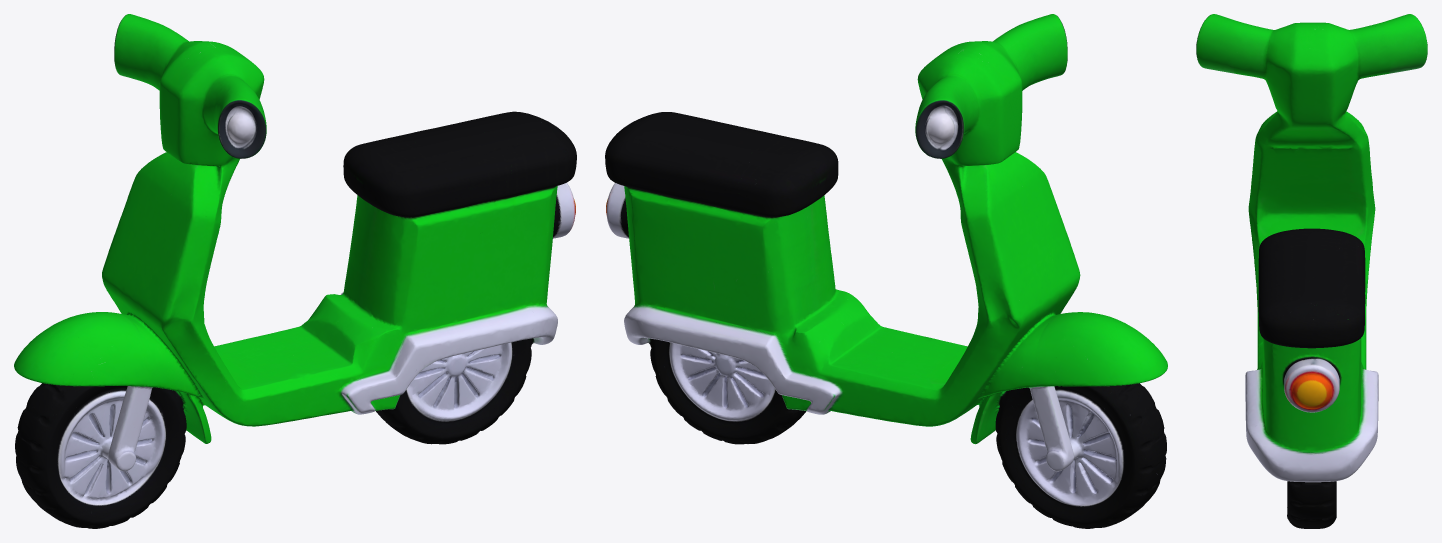
File: green-delivery-scooter.glb
The picture shows the model from 3 angles, left to right: view 1: azimuth 30°, elevation 25°; view 2: azimuth 150°, elevation 25°; view 3: azimuth 270°, elevation 25°; orthographic projection. The views are drawn at different scales.
Size of the model in its own units: 1.9 by 1.47 by 0.7805.
Materials: 1 (1 with a texture image).
